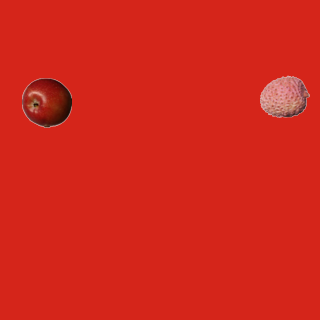Apple Braeburn: (21, 77, 71, 127)
Lychee: (259, 71, 309, 121)
